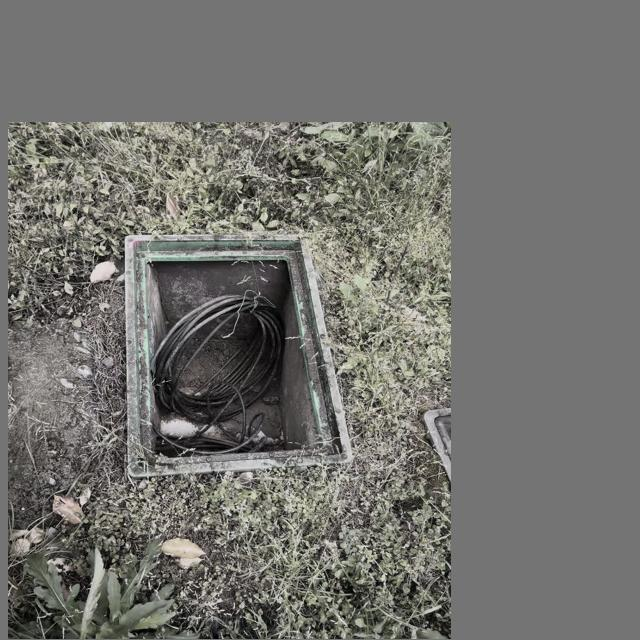lose: (122, 232, 353, 479)
